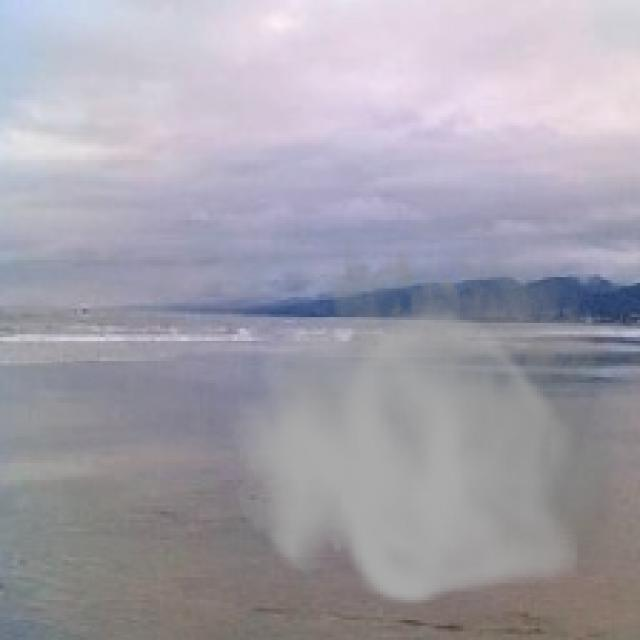Smoke: (232, 203, 632, 612)
